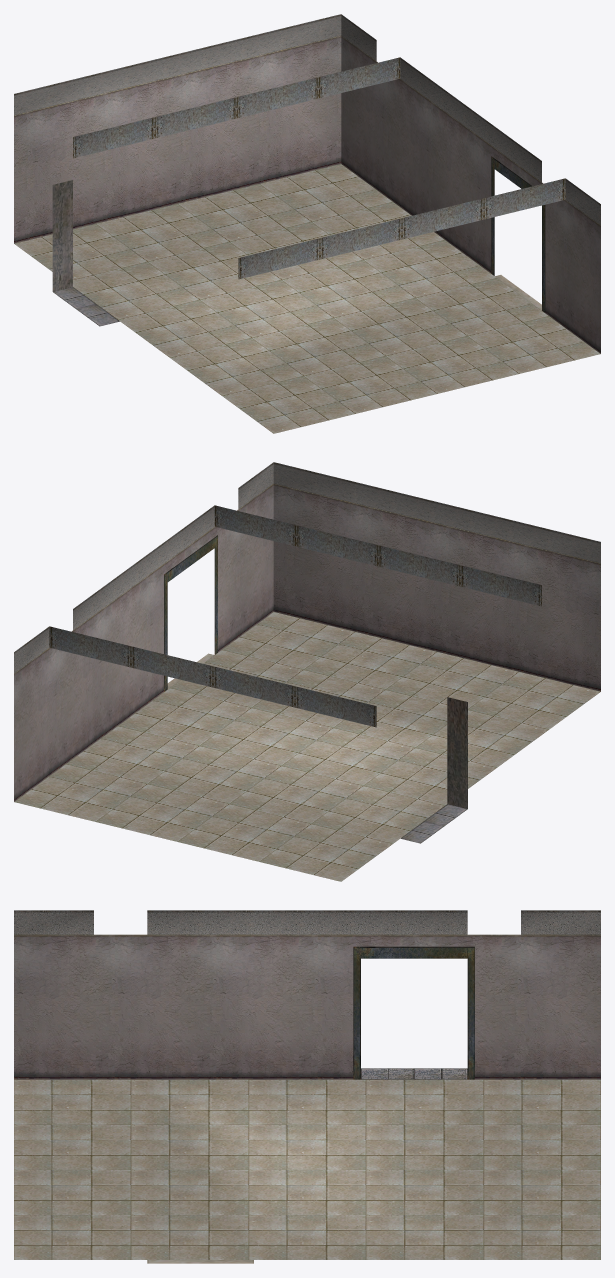
Rendered from M11Z2_SCUDHouse02_H.glb.
The picture shows the model from 3 angles, top to bottom: view 1: azimuth 30°, elevation 25°; view 2: azimuth 150°, elevation 25°; view 3: azimuth 270°, elevation 25°; orthographic projection. The views are drawn at different scales.
Parts seen in each view (by area): view 1: M11Z2_SCUDHOUSE02_H; view 2: M11Z2_SCUDHOUSE02_H; view 3: M11Z2_SCUDHOUSE02_H.
Boxes of the visible parts, left/top/right/bottom form: M11Z2_SCUDHOUSE02_H: left=14, top=14, right=600, bottom=433; M11Z2_SCUDHOUSE02_H: left=14, top=462, right=600, bottom=881; M11Z2_SCUDHOUSE02_H: left=14, top=910, right=600, bottom=1263.
Size of the model in its own units: 8.65 by 3.5 by 11.
Materials: 7 (7 with a texture image).
